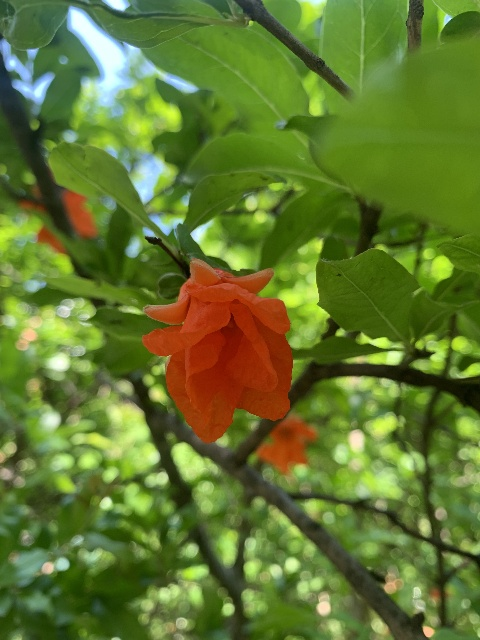flower: (140, 257, 293, 444), (19, 184, 96, 253), (253, 417, 317, 476)
